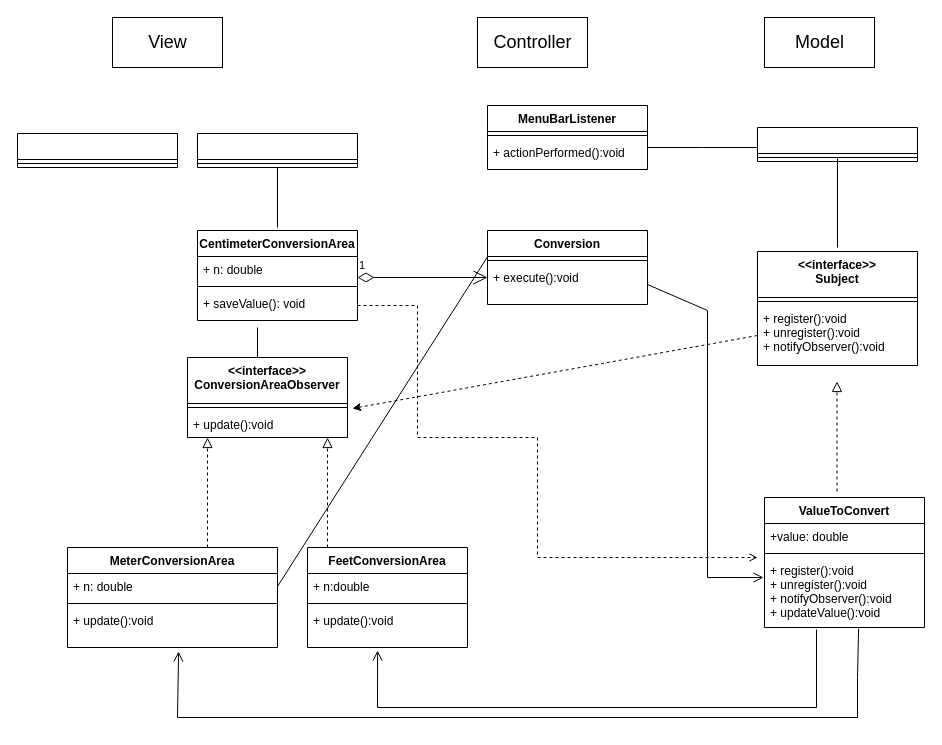
The diagram is 942 pixels wide and 745 high, and some of its shapes have lost their labels. The shapes that lost their labels are listed below. From the top down, each one's centre as x and y in pixels, then its label:
At pixel 97 150: "JMenuBar".
At pixel 277 150: "Panel".
At pixel 837 144: "Main".
